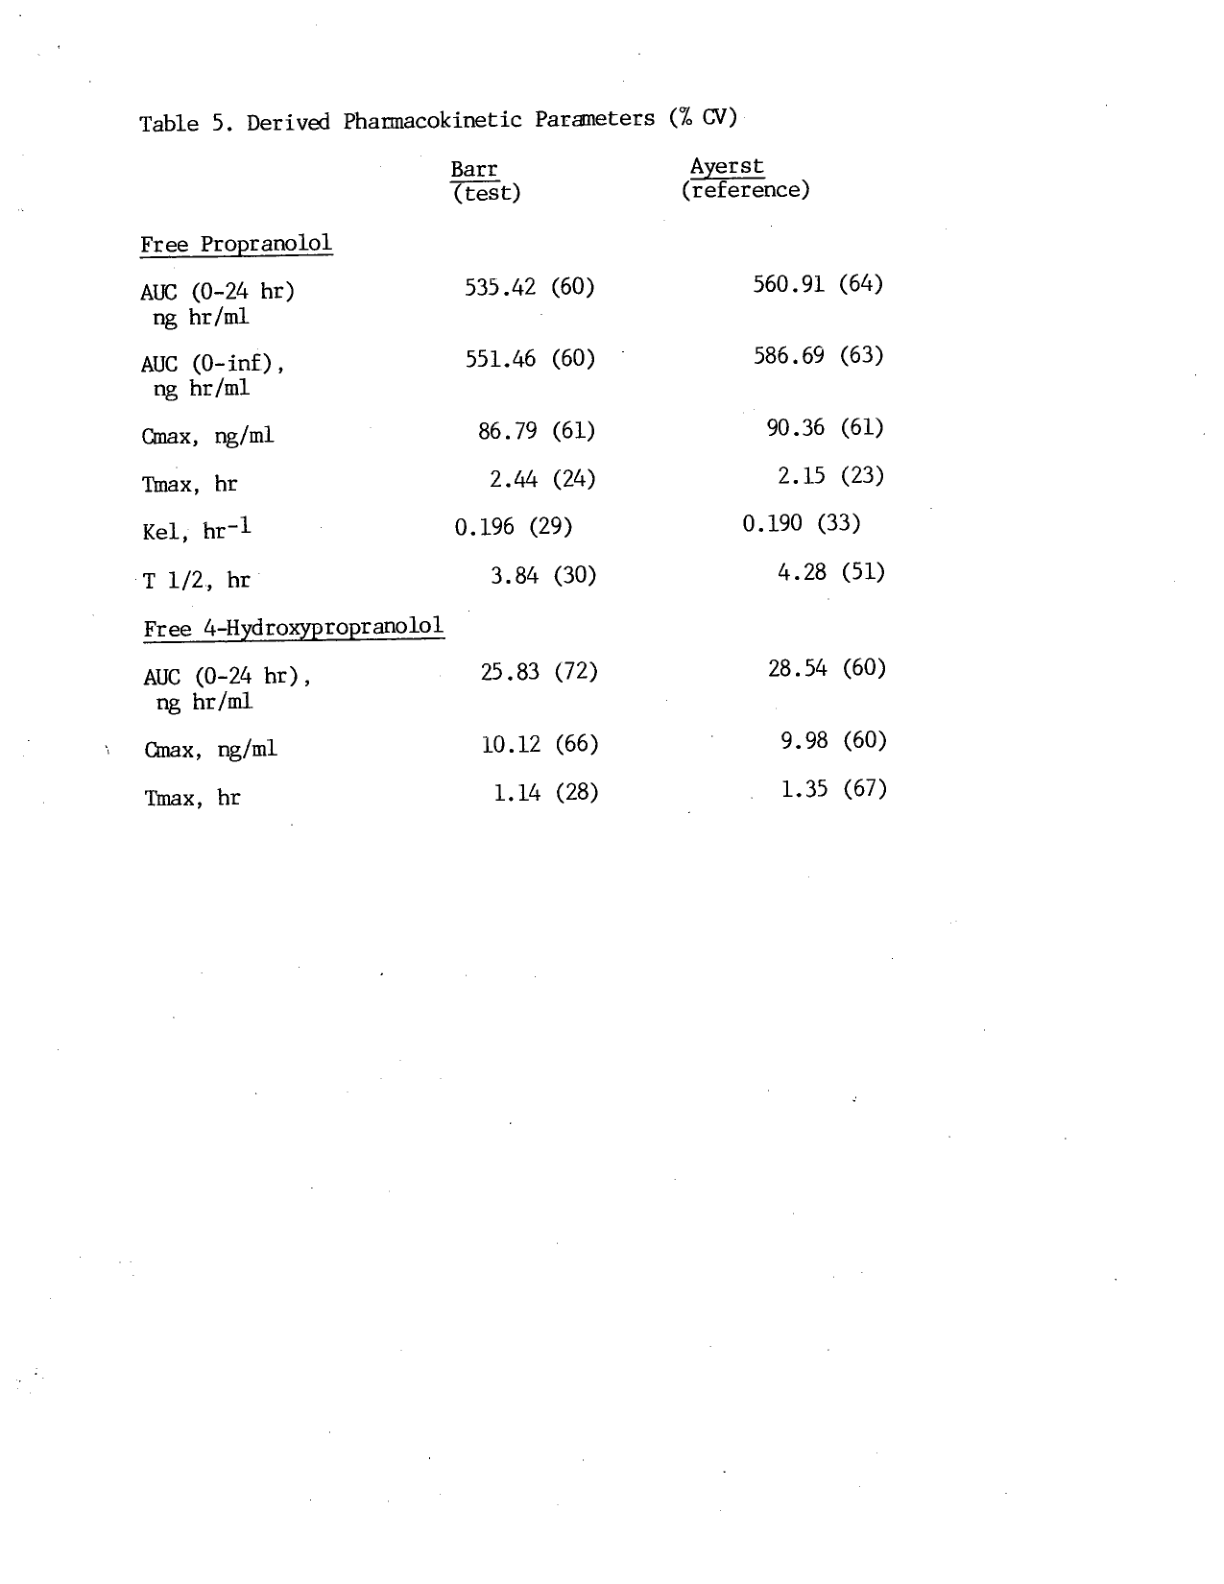nolines: (139, 157, 892, 806)
